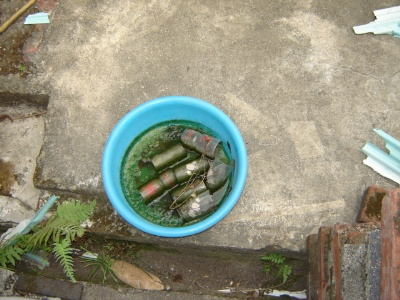bowl: (101, 96, 247, 238)
